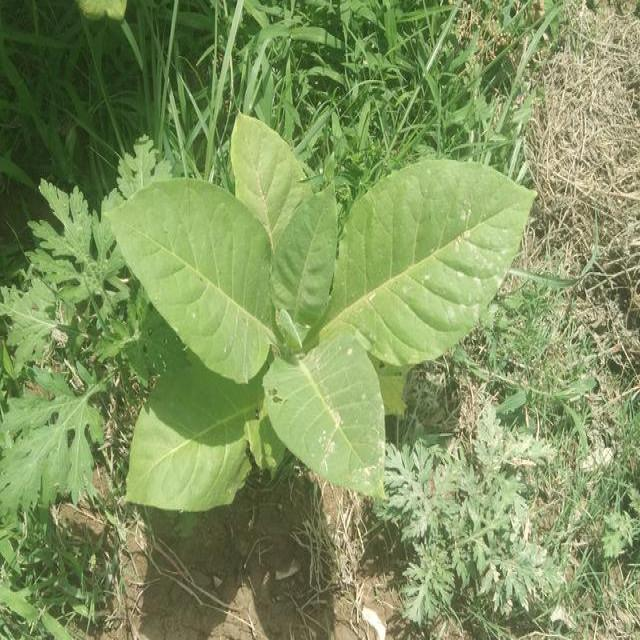crop: (108, 111, 537, 532)
